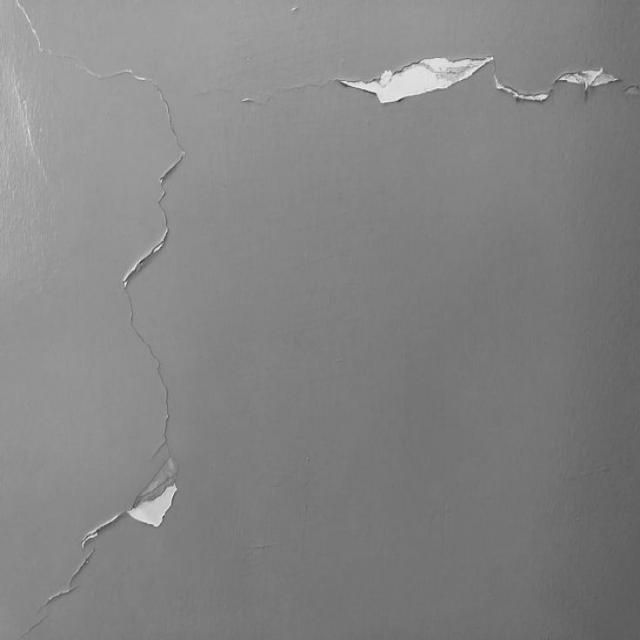peeling paint: (0, 0, 195, 640), (199, 0, 640, 125)
